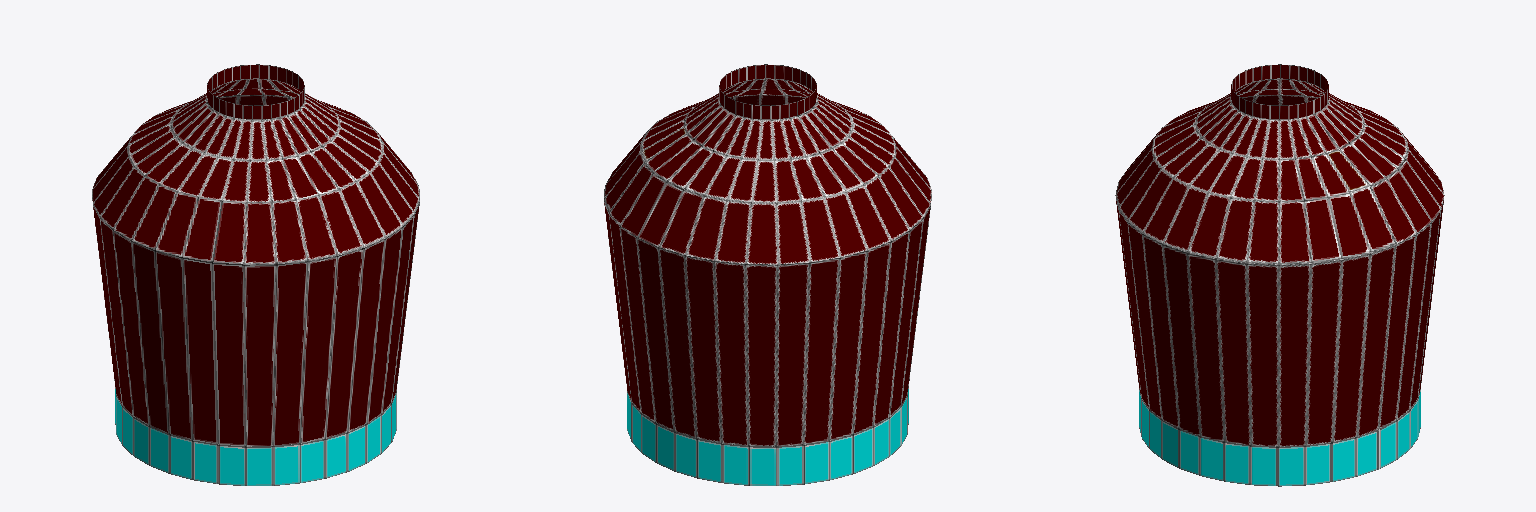
3 views of the same model, side by side, from view 1: azimuth 30°, elevation 25°; view 2: azimuth 150°, elevation 25°; view 3: azimuth 270°, elevation 25° (orthographic).
Parts seen in each view (by area): view 1: Circle; view 2: Circle; view 3: Circle.
Boxes of the visible parts, x1=… form: Circle: x1=92, y1=64, x2=419, y2=485; Circle: x1=604, y1=64, x2=931, y2=485; Circle: x1=1115, y1=64, x2=1444, y2=486.
Size of the model in its own units: 0.5944 by 0.6812 by 0.5944.
Materials: 1 (1 with a texture image).